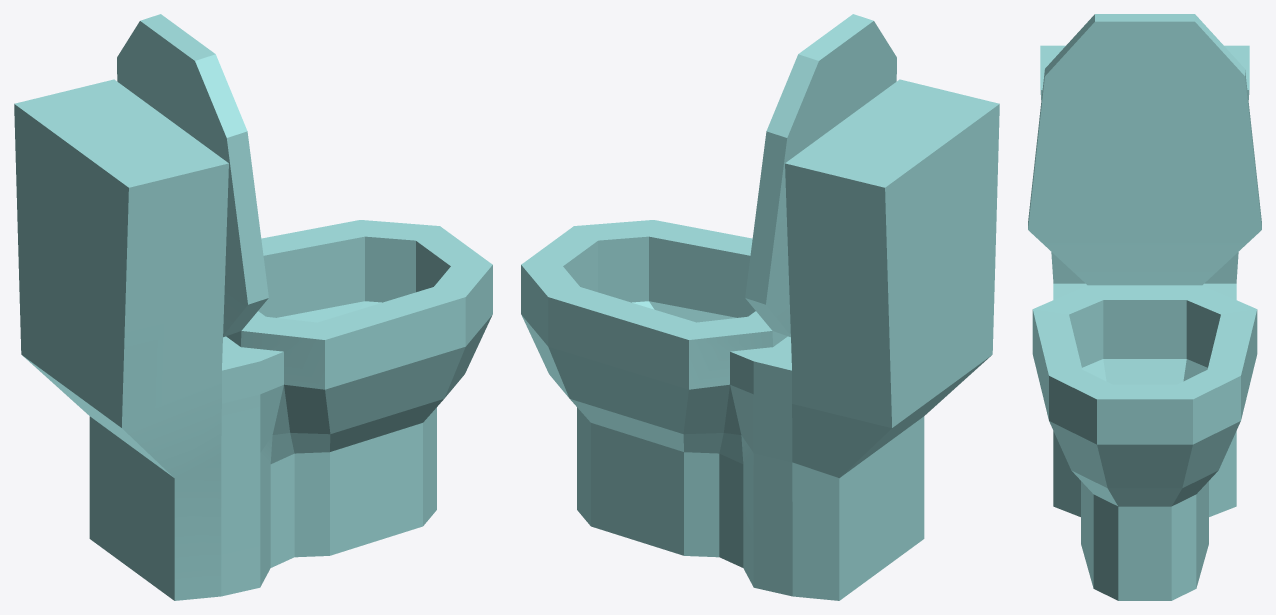
Rendered from closetool.fbx.
3 renders of one model, left to right at view 1: azimuth 30°, elevation 25°; view 2: azimuth 150°, elevation 25°; view 3: azimuth 270°, elevation 25°, orthographic. The views are drawn at different scales.
Visible parts, largest first — view 1: closetool; view 2: closetool; view 3: closetool.
Part boxes in pixels (box(x1,y1,x2,y2)): closetool: box(14, 14, 492, 600); closetool: box(521, 14, 999, 600); closetool: box(1028, 14, 1261, 600).
Size of the model in its own units: 3.79 by 4.79 by 2.14.
